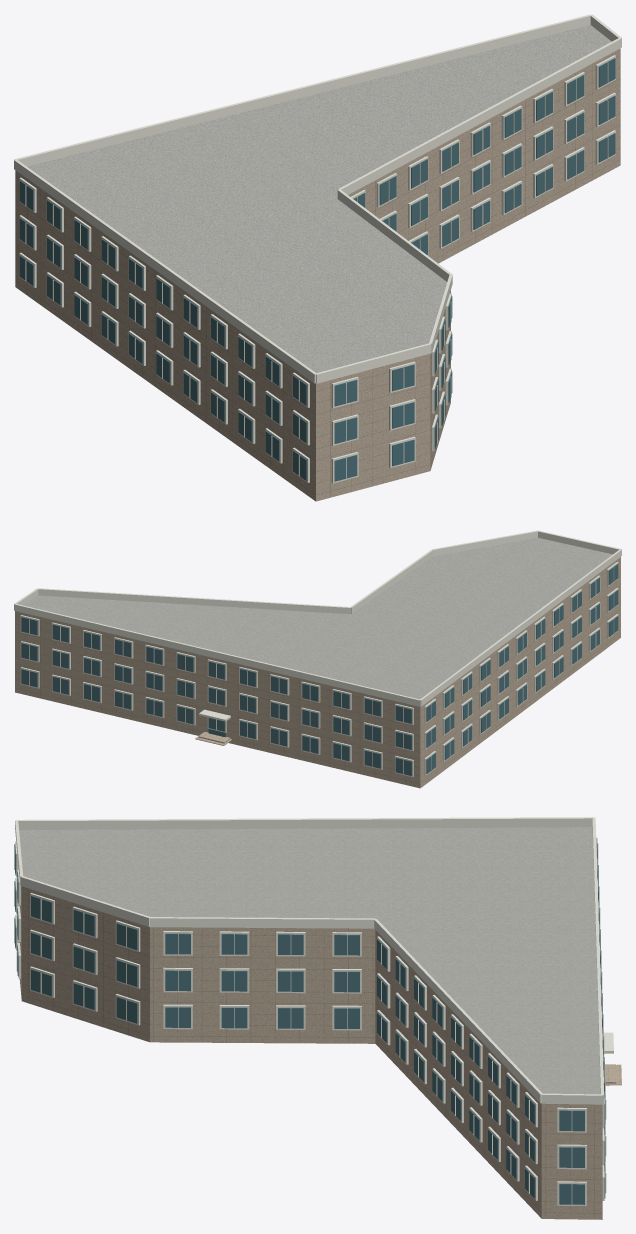
The model's file is chunk-n1-n4.glb.
3 renders of one model, top to bottom at view 1: azimuth 30°, elevation 25°; view 2: azimuth 150°, elevation 25°; view 3: azimuth 270°, elevation 25°, orthographic. The views are drawn at different scales.
Parts seen in each view (by area): view 1: chunk-n1-n4; view 2: chunk-n1-n4; view 3: chunk-n1-n4.
Part boxes in pixels (x1,y1,x2,y2): chunk-n1-n4: [14, 14, 621, 501]; chunk-n1-n4: [14, 530, 621, 788]; chunk-n1-n4: [14, 817, 621, 1219].
Bounding box in the file's own units: 53.91 × 11.2 × 49.46.
4 materials, 2 textured.
